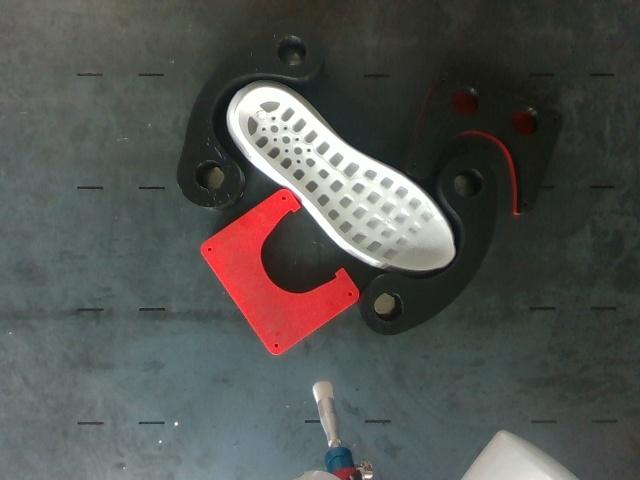shoes: (238, 87, 454, 271)
